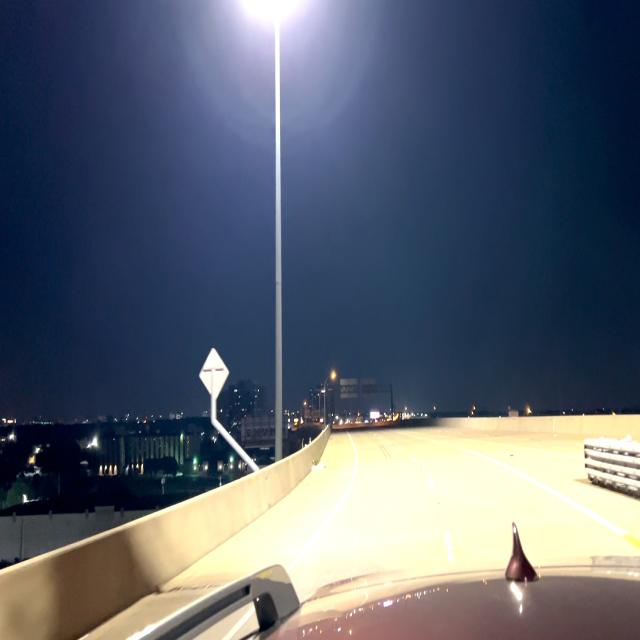back-of-sign: (201, 348, 229, 404)
